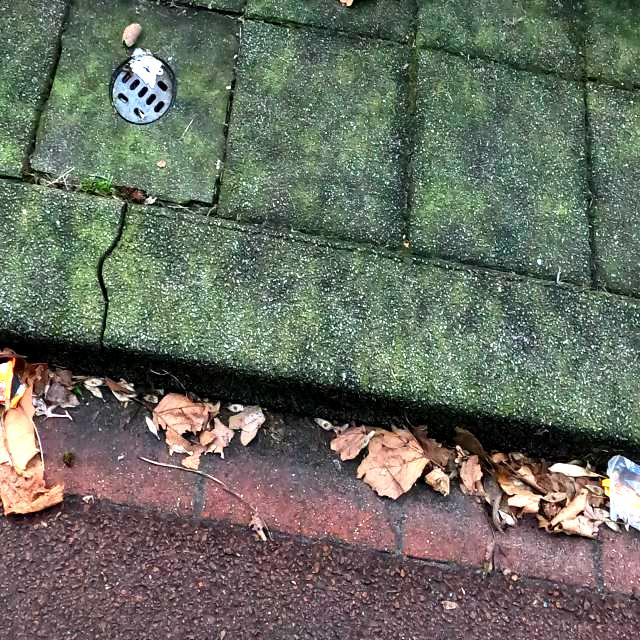Paper: (130, 46, 162, 88)
Plastic: (600, 469, 640, 516), (0, 354, 28, 412)
